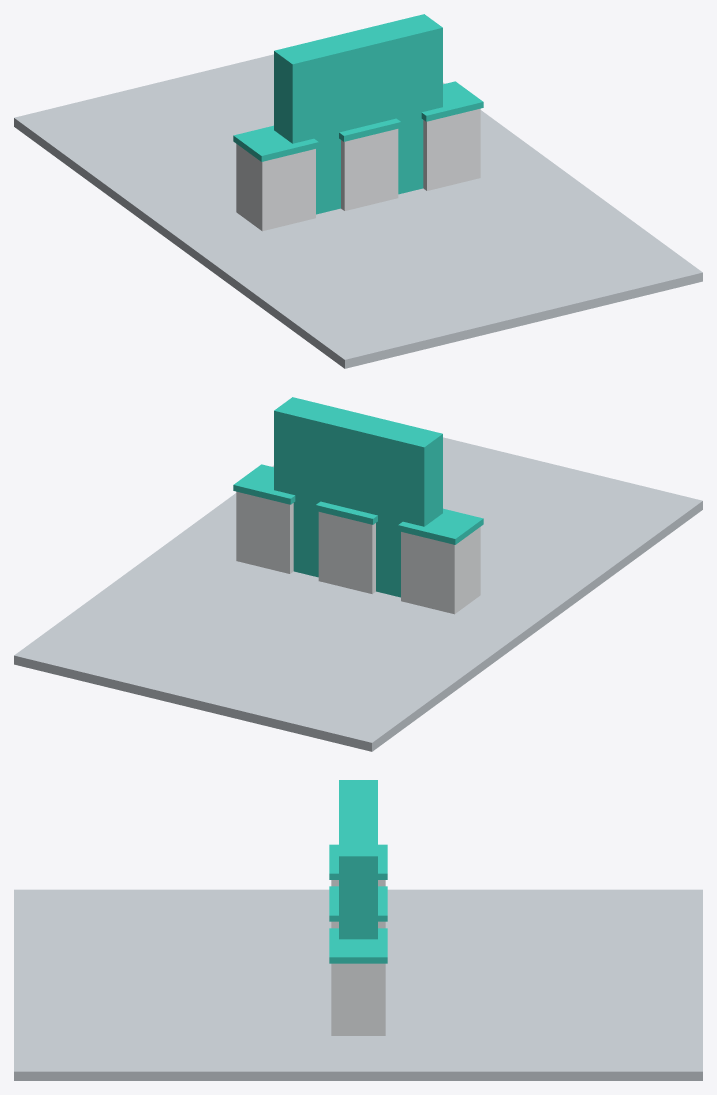
3 views of the same model, one above another, from view 1: azimuth 30°, elevation 25°; view 2: azimuth 150°, elevation 25°; view 3: azimuth 270°, elevation 25° (orthographic). The views are drawn at different scales.
Parts seen in each view (by area): view 1: Exhibition Booth Concept; view 2: Exhibition Booth Concept; view 3: Exhibition Booth Concept.
Part boxes in pixels (bbox=[...]): Exhibition Booth Concept: bbox=[14, 14, 702, 368]; Exhibition Booth Concept: bbox=[14, 397, 702, 751]; Exhibition Booth Concept: bbox=[14, 780, 702, 1080].
Size of the model in its own units: 5 by 2.2 by 8.
